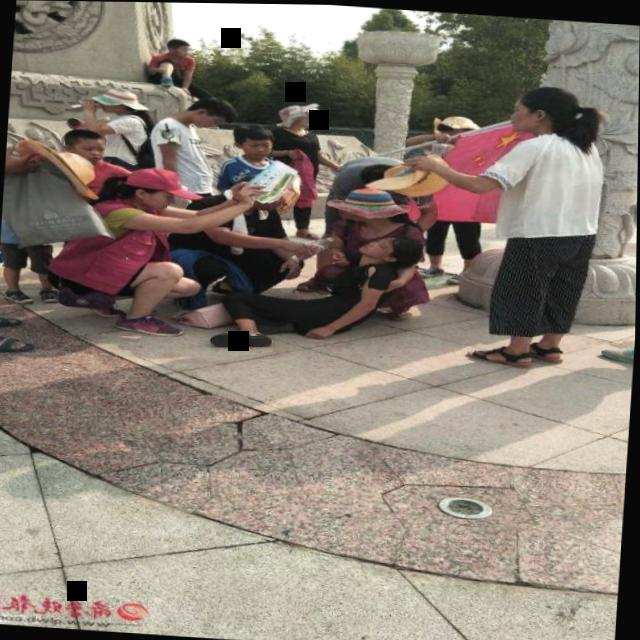Fall-Detected: (199, 205, 429, 358)
